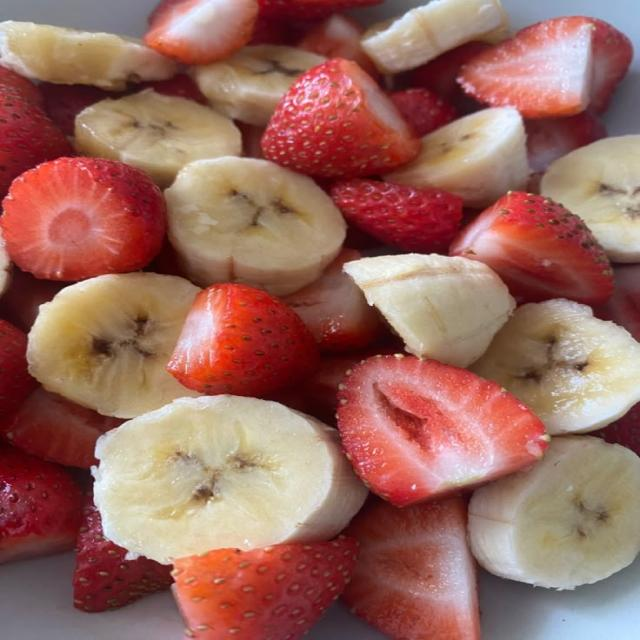banana slice: (94, 395, 367, 563), (468, 436, 639, 589), (27, 273, 199, 418), (166, 157, 345, 295), (472, 299, 639, 434), (343, 254, 515, 367), (75, 89, 241, 187), (385, 107, 529, 207), (540, 136, 639, 262), (0, 21, 176, 90), (191, 45, 326, 125), (361, 0, 508, 73), (0, 233, 12, 295)
strawberry sliced: (337, 356, 548, 506), (0, 157, 166, 280), (343, 498, 480, 639), (262, 57, 419, 177), (174, 537, 358, 639), (450, 191, 611, 305), (166, 284, 318, 397), (457, 17, 591, 118), (72, 494, 172, 613), (0, 386, 124, 468), (330, 179, 462, 253), (0, 444, 81, 563), (0, 87, 73, 202), (143, 0, 257, 65)
